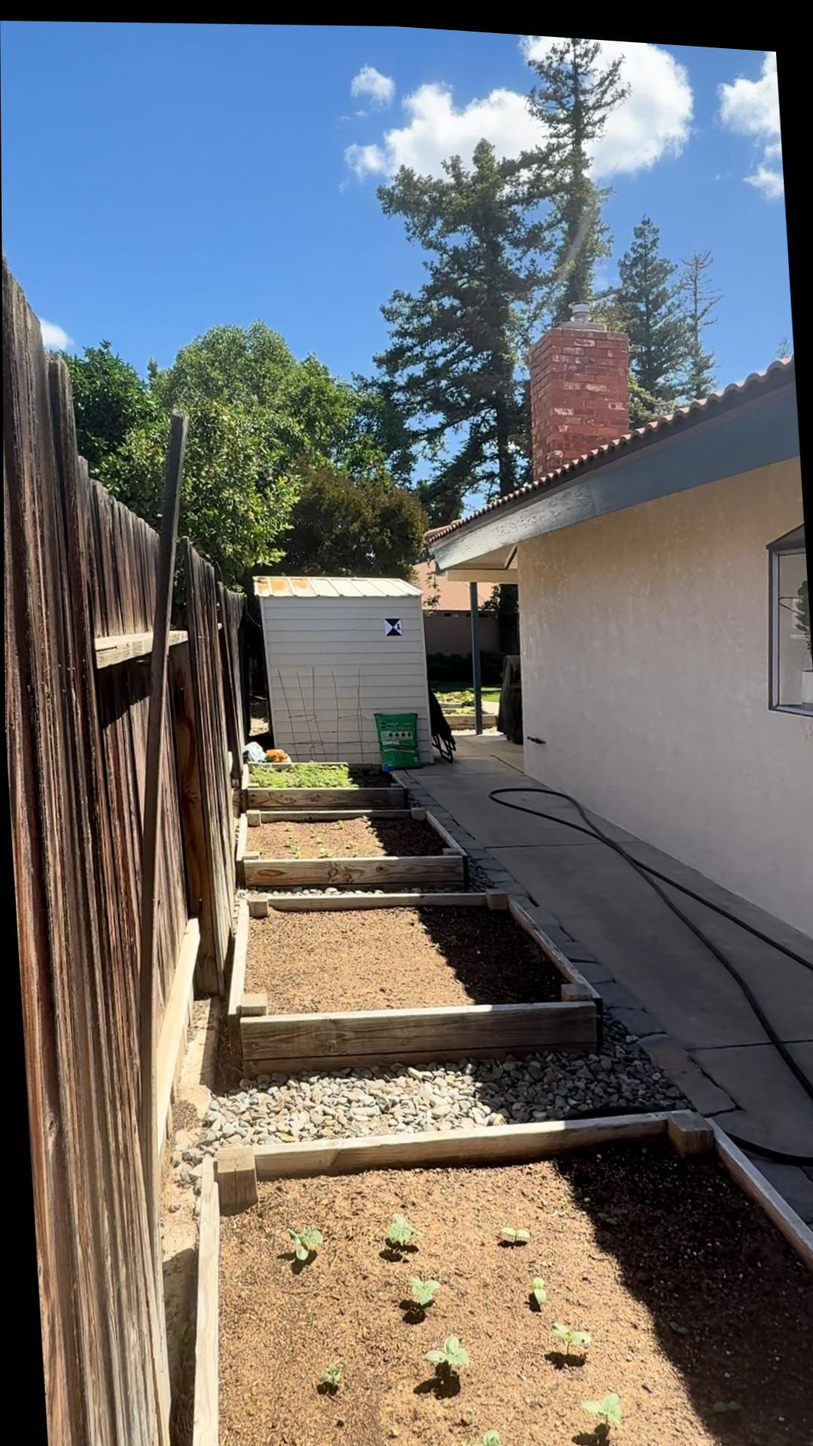target1: (383, 615, 405, 641)
